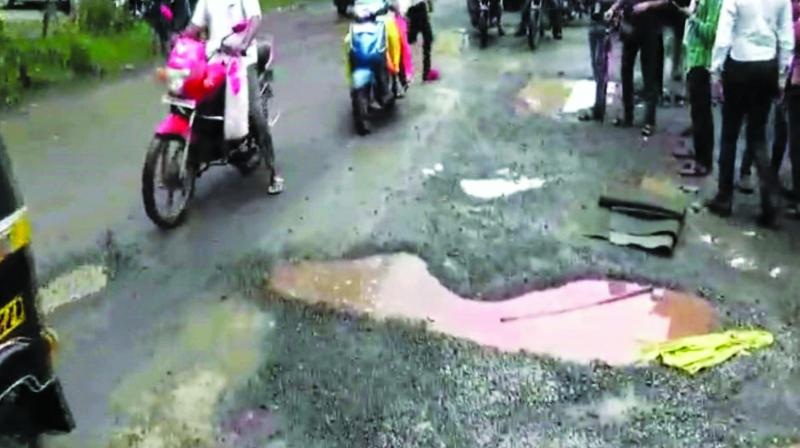pothole: (226, 222, 730, 377)
